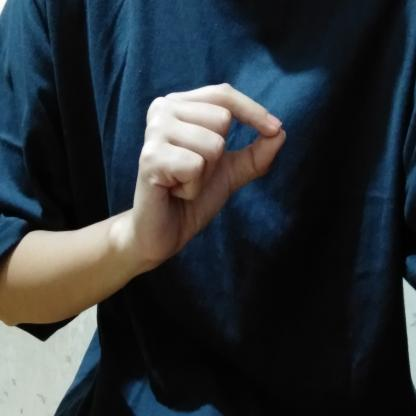nothing: (124, 79, 294, 274)
